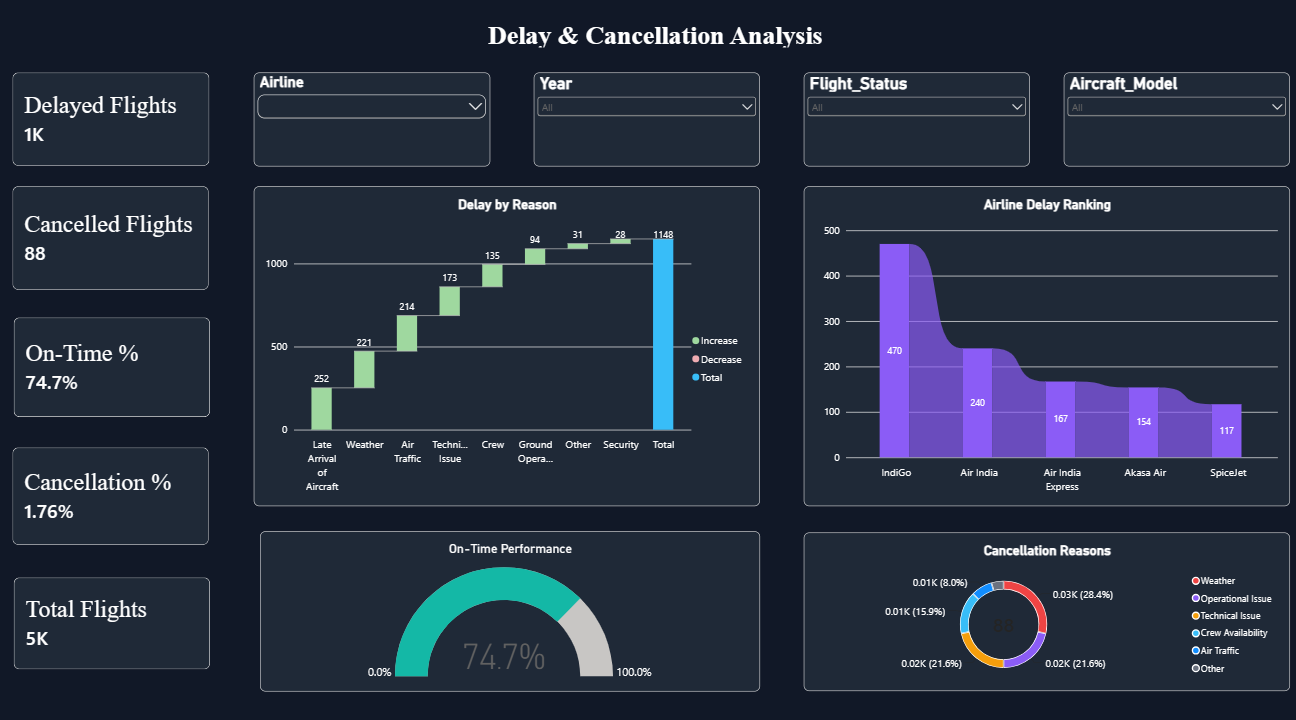

What the dashboard file says about the page in this screenshot:
{"tool":"powerbi","page":{"name":"Delay & Cancellation Analysis","canvas":[1920,1080],"ordinal":3},"visuals":[{"type":"textbox","box":[0,0,1920.1,76],"z":0},{"type":"cardVisual","title":"Delayed Flights","fields":{"Data":["Indian_Airline_Flights_2024_2025.Delayed Flights"]},"box":[25.3,112.2,285.9,135.7],"z":1000},{"type":"cardVisual","title":"Delayed Flights","fields":{"Data":["Indian_Airline_Flights_2024_2025.Cancelled Flights"]},"box":[25.3,276.9,284.1,150.2],"z":2000},{"type":"cardVisual","title":"Delayed Flights","fields":{"Data":["Indian_Airline_Flights_2024_2025.On-Time %"]},"box":[27.1,466.9,284.1,144.8],"z":3000},{"type":"cardVisual","title":"Delayed Flights","fields":{"Data":["Indian_Airline_Flights_2024_2025.Cancellation %"]},"box":[25.3,655.1,284.1,141.2],"z":4000},{"type":"cardVisual","title":"Delayed Flights","fields":{"Data":["Indian_Airline_Flights_2024_2025.Total Flights"]},"box":[27.1,843.3,284.1,133.9],"z":5000},{"type":"slicer","title":"Airlane","fields":{"Values":["Indian_Airline_Flights_2024_2025.Airline"]},"box":[374.6,112.2,342,135.7],"z":6000},{"type":"slicer","fields":{"Values":["DateTable.Year"]},"box":[780,112.2,327.5,135.7],"z":7000},{"type":"slicer","fields":{"Values":["Indian_Airline_Flights_2024_2025.Flight_Status"]},"box":[1170.9,112.2,327.5,135.7],"z":8000},{"type":"slicer","fields":{"Values":["Indian_Airline_Flights_2024_2025.Aircraft_Model"]},"box":[1547.3,112.2,327.5,135.7],"z":9000},{"type":"waterfallChart","title":"Delay by Reason","fields":{"Category":["Indian_Airline_Flights_2024_2025.Delay_Reason"],"Y":["Indian_Airline_Flights_2024_2025.Delayed Flights"]},"box":[374.6,276.9,732.9,463.3],"z":10000},{"type":"gauge","title":"On-Time Performance","fields":{"Y":["Indian_Airline_Flights_2024_2025.On-Time %"]},"box":[383.6,776.3,723.9,231.6],"z":11000},{"type":"ribbonChart","title":"Airline Delay Ranking","fields":{"Category":["Indian_Airline_Flights_2024_2025.Airline"],"Y":["Indian_Airline_Flights_2024_2025.Delayed Flights"]},"box":[1170.9,276.9,704,463.3],"z":12000},{"type":"donutChart","title":"Cancellation Reasons","fields":{"Category":["Indian_Airline_Flights_2024_2025.Cancellation_Reason"],"Y":["Indian_Airline_Flights_2024_2025.Cancelled Flights"]},"box":[1170.9,778.2,704,229.8],"z":13000}]}

Visuals, with their boxes in screenshot pixels (x1, y1, x2, y2), scaled from the page's 1920x1080 canvas onto the 1296x720 screenshot:
textbox: 0,0,1295,51
"Delayed Flights" cardVisual: 17,75,210,165
"Delayed Flights" cardVisual: 17,185,209,285
"Delayed Flights" cardVisual: 18,311,210,408
"Delayed Flights" cardVisual: 17,437,209,531
"Delayed Flights" cardVisual: 18,562,210,651
"Airlane" slicer: 253,75,484,165
slicer - DateTable.Year: 526,75,748,165
slicer - Indian_Airline_Flights_2024_2025.Flight_Status: 790,75,1011,165
slicer - Indian_Airline_Flights_2024_2025.Aircraft_Model: 1044,75,1265,165
"Delay by Reason" waterfallChart: 253,185,748,493
"On-Time Performance" gauge: 259,518,748,672
"Airline Delay Ranking" ribbonChart: 790,185,1266,493
"Cancellation Reasons" donutChart: 790,519,1266,672
